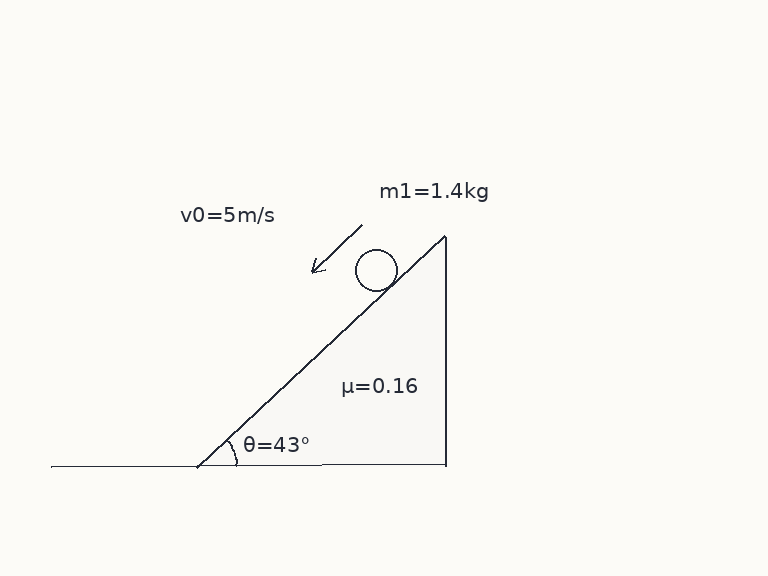ball: (353, 247, 399, 293)
ramp: (195, 233, 447, 468)
